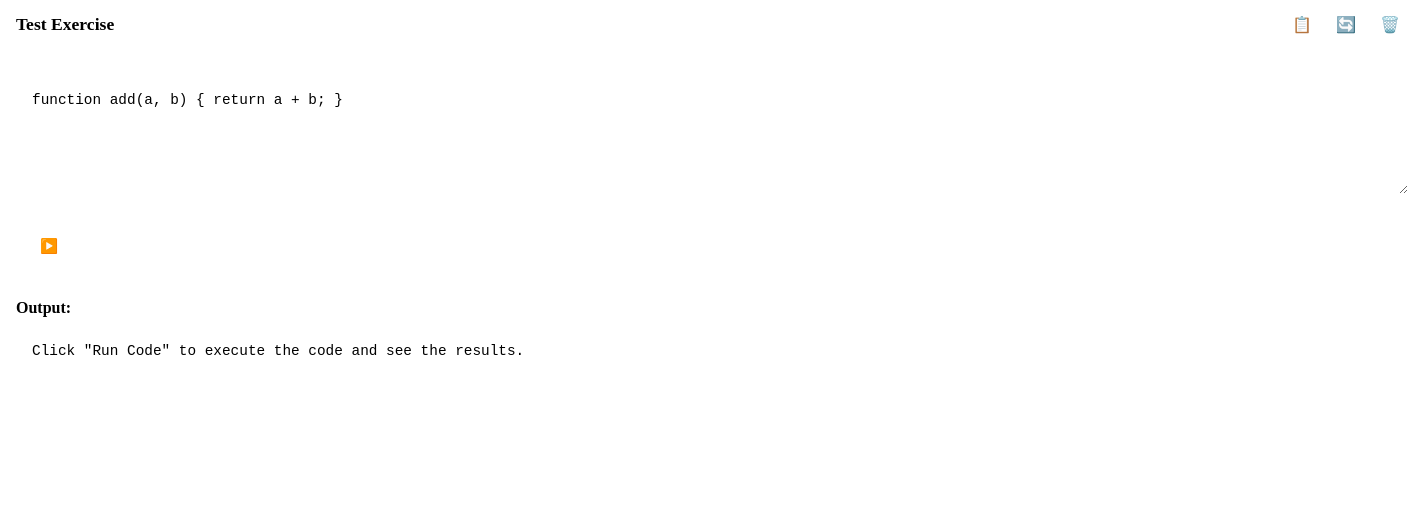
Test: CodeRunner › executes code and shows test results on run
The width and height of the screenshot is (1424, 527).
Click the button "▶️ Run Code" at (85, 246), box [16, 226, 154, 267]
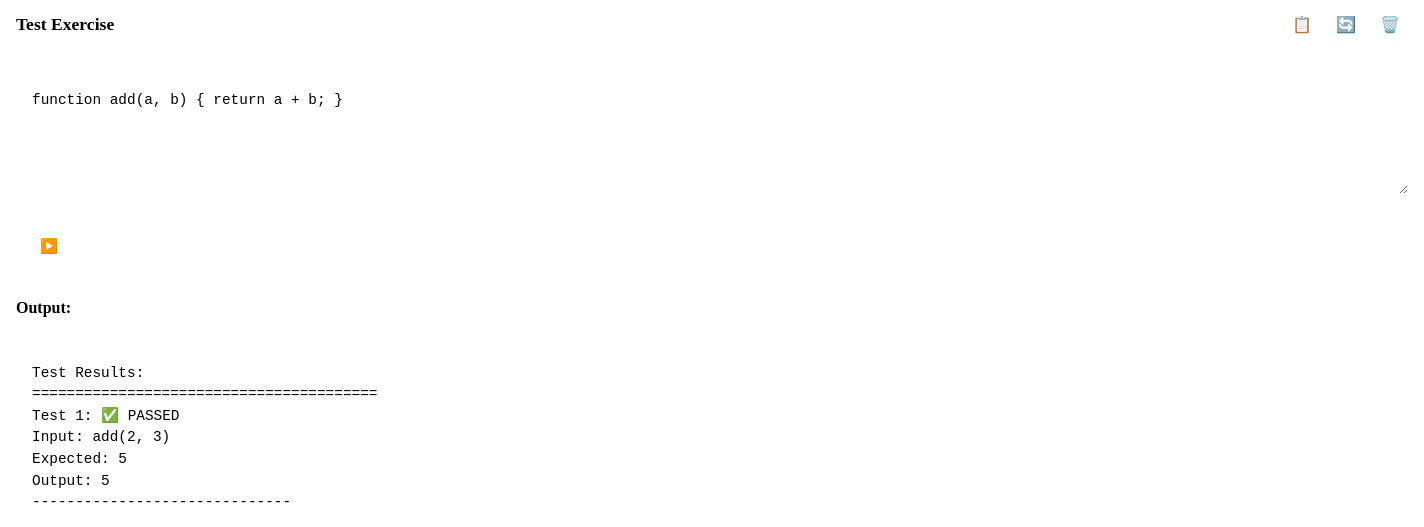
Result: the text "PASSED" is shown at [32, 365, 377, 510]
